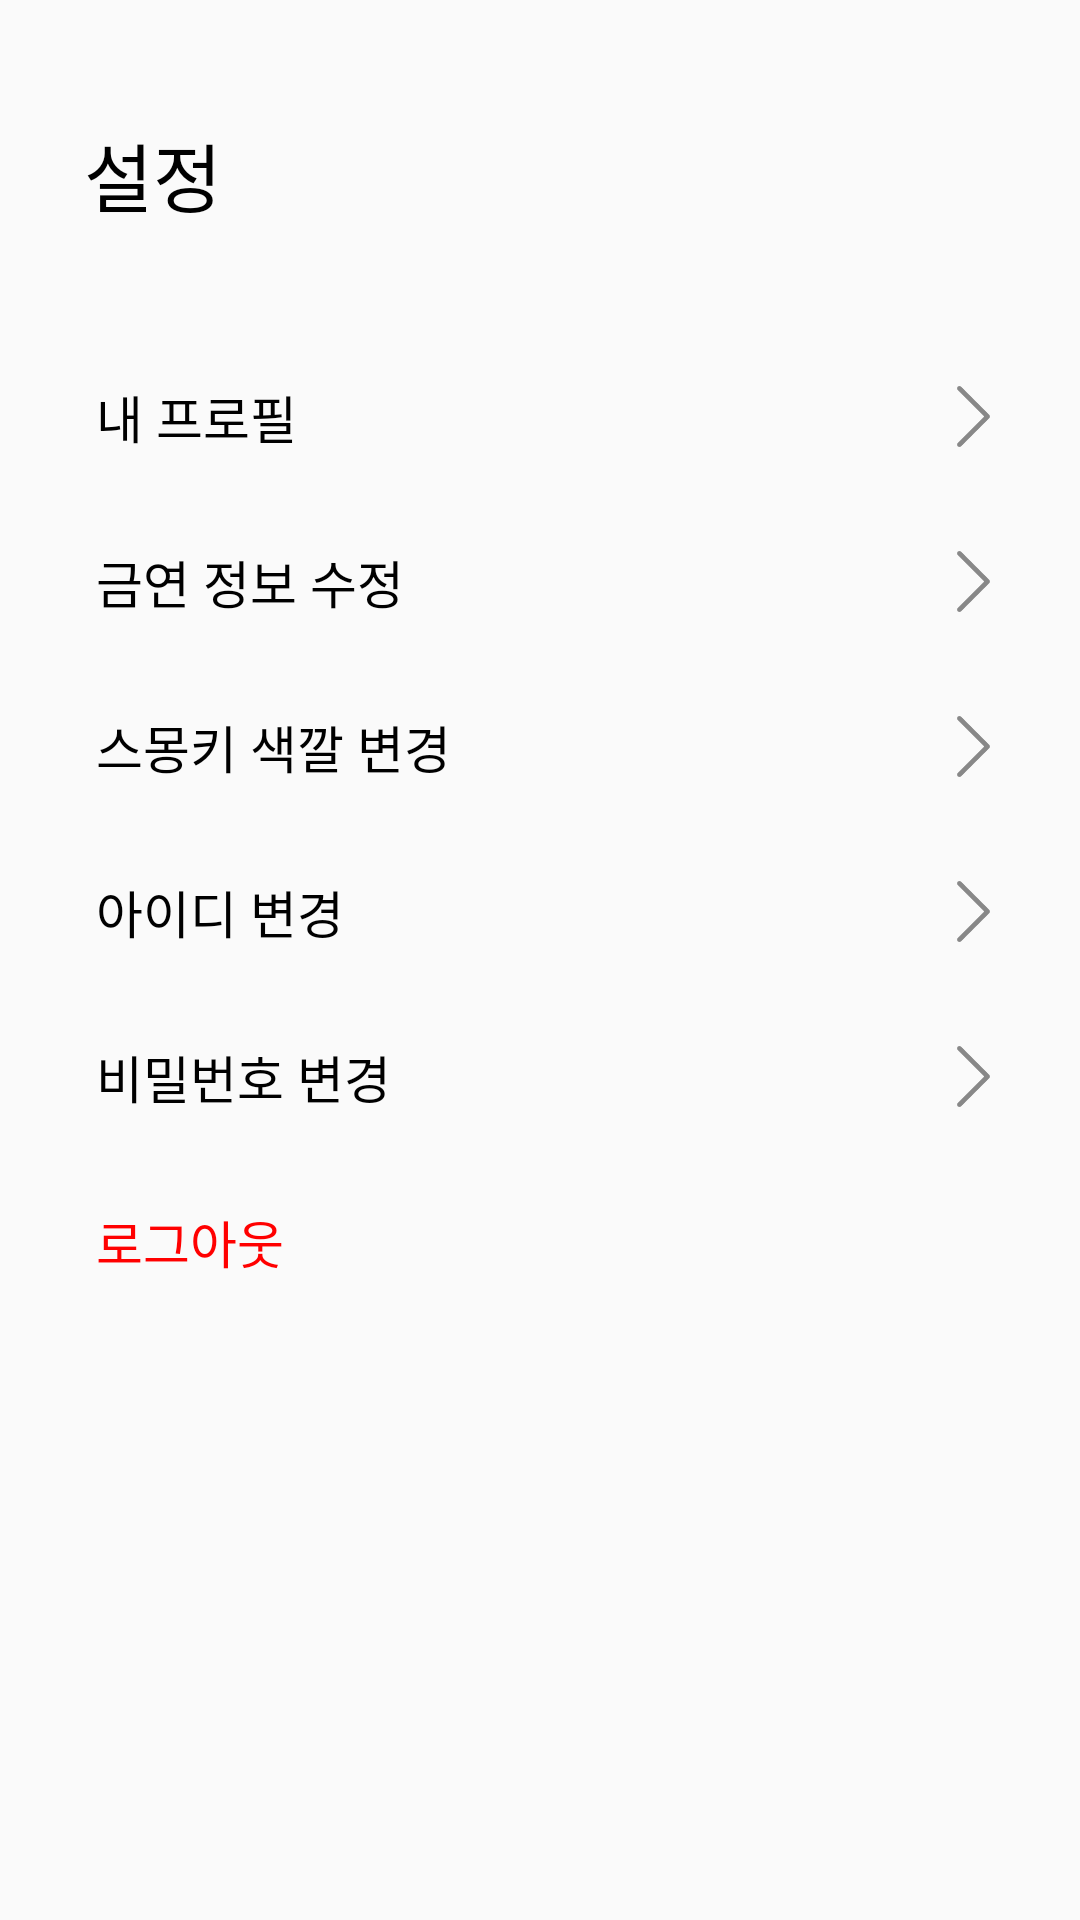

Icons on this 1080×1920 Android screen, each with the point to tap as [x,y]:
nextnext: [973,416], [973,581], [973,746], [973,911], [973,1076]
